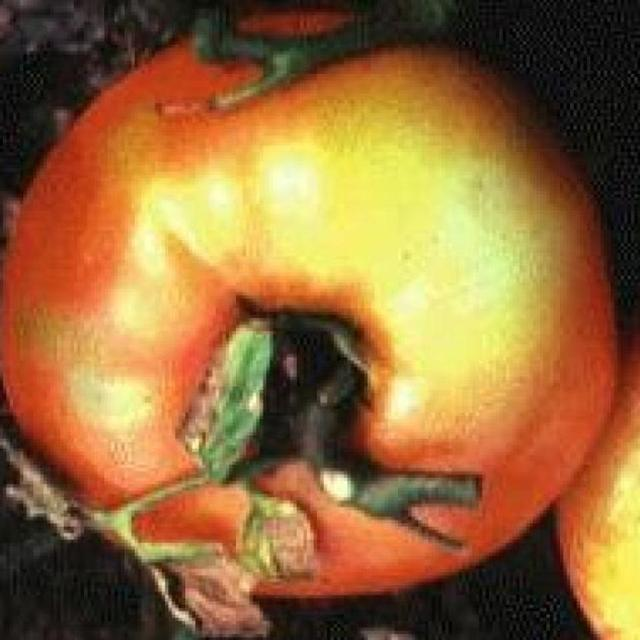Sunscald Fruit: (26, 149, 414, 352)
